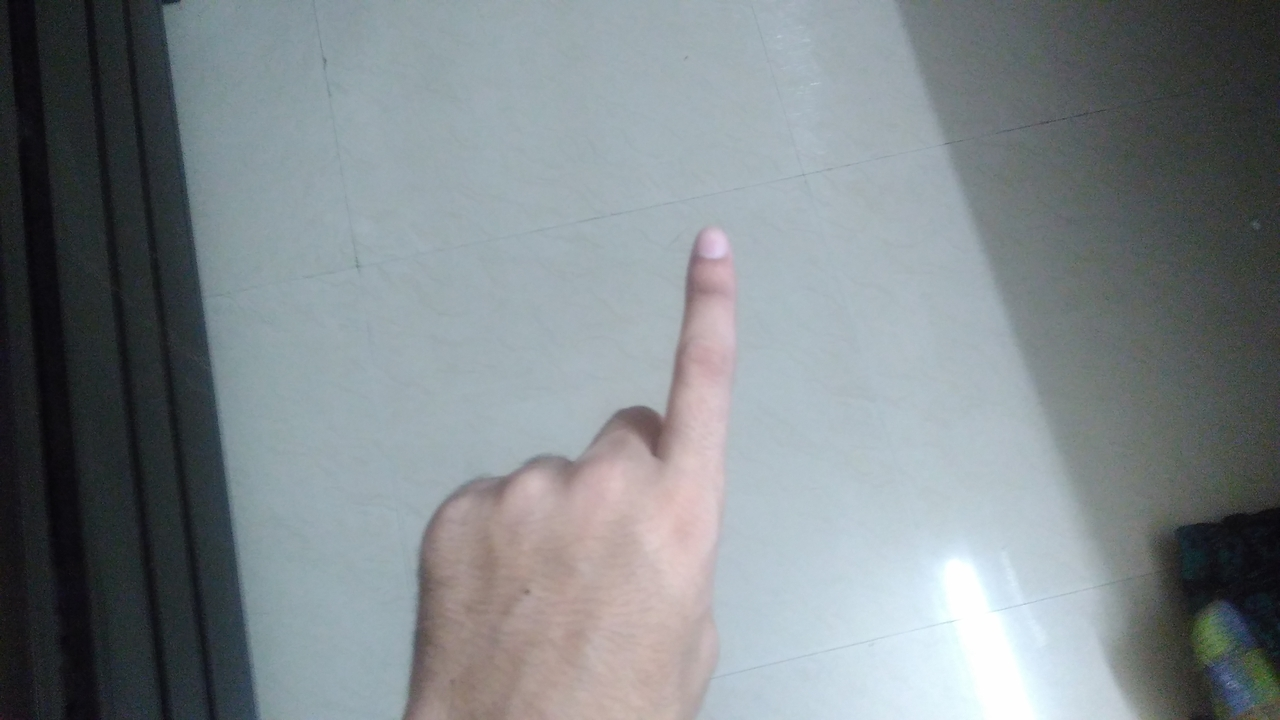fingertip: (684, 214, 740, 272)
